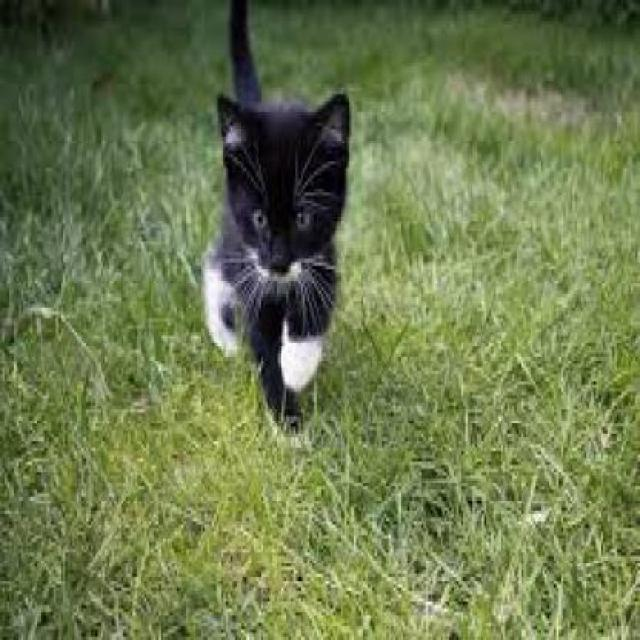animals: (191, 7, 358, 468)
